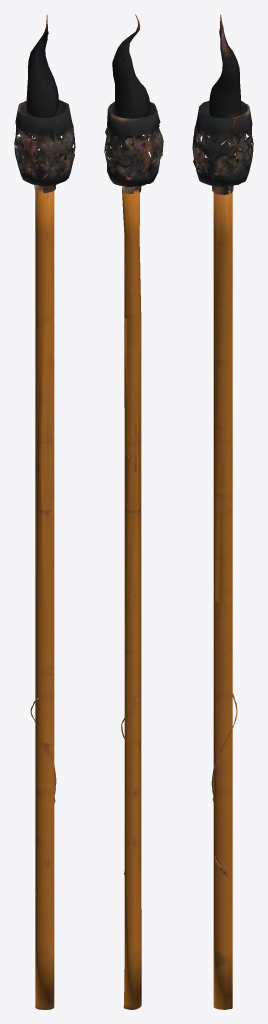
Rendered from torch.glb.
3 views of the same model, side by side, from view 1: azimuth 90°, elevation 25°; view 2: azimuth 150°, elevation 25°; view 3: azimuth 270°, elevation 25° (orthographic).
Bounding box in the file's own units: 0.0503 × 0.9512 × 0.0532.
1 material, 1 textured.
